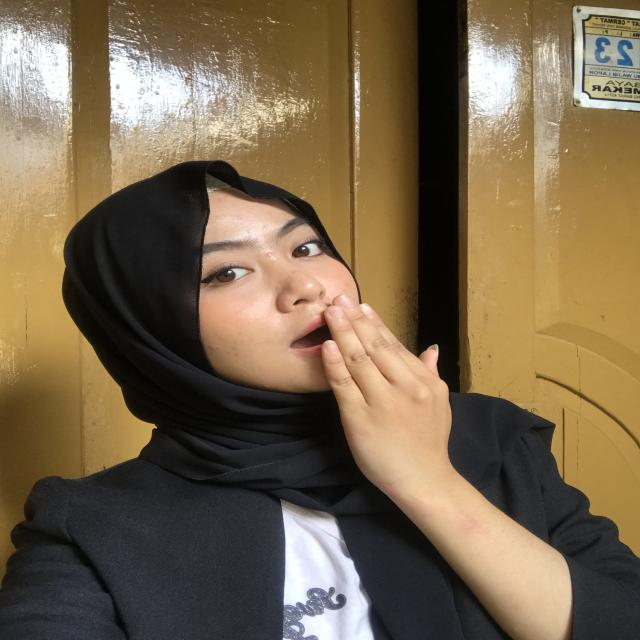ngantuk: (270, 269, 472, 510)
